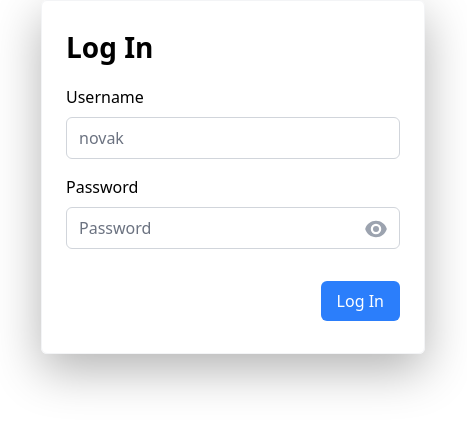
Test: LoginForm › With invalid password › should render password validation error message
Type "p" into the password field labelled "Password" at (233, 228), box [66,207,400,249]
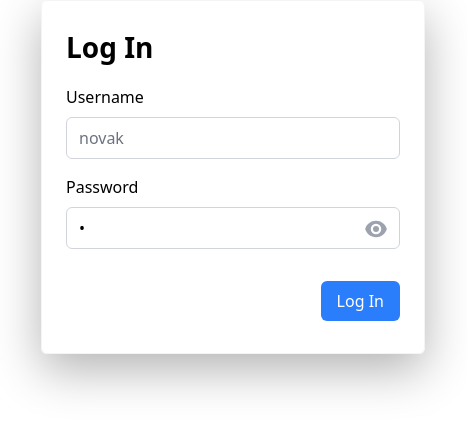
Leave the password field labelled "Password", box [66,207,400,249]
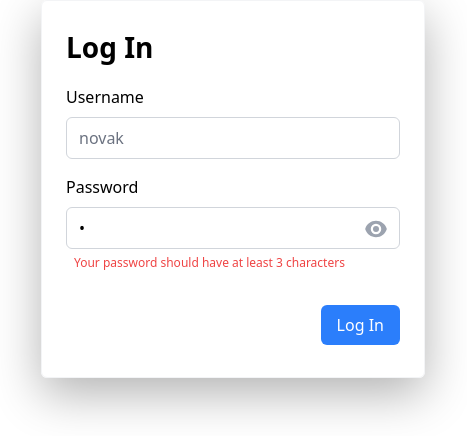
expect the text "Your password should have at least 3 characters" is shown: met, box [66,252,353,273]
